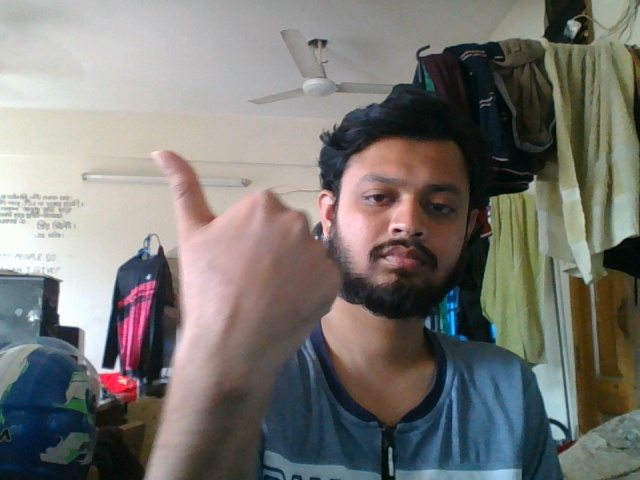do: (136, 142, 349, 450)
